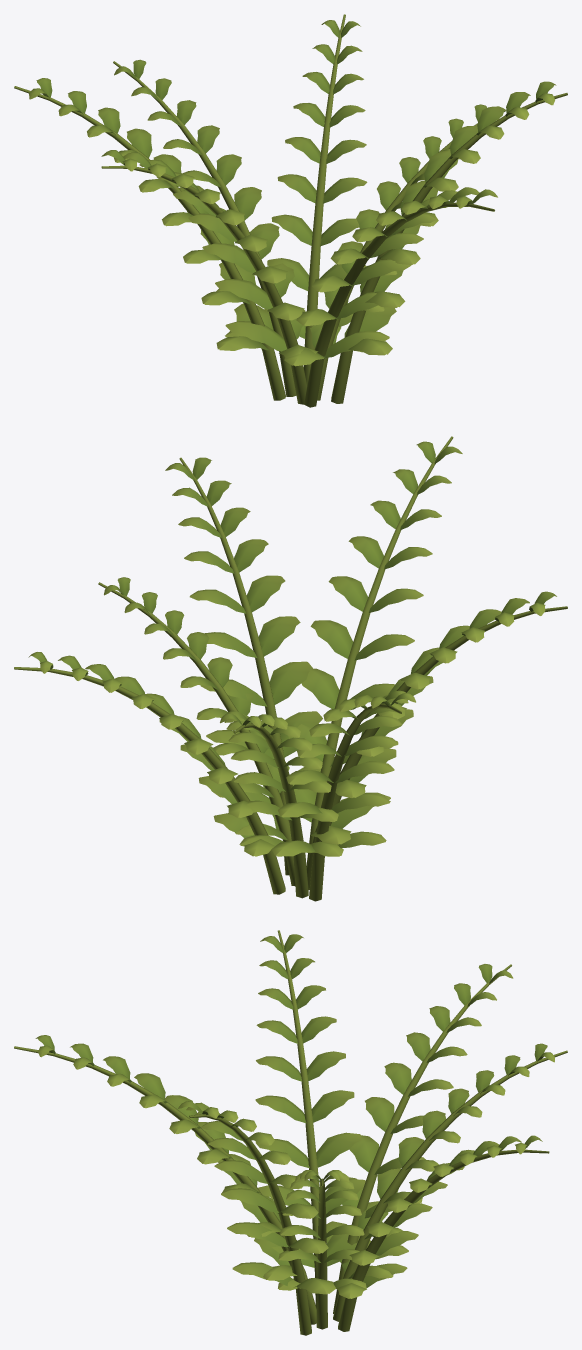
The model's file is fern_upright.glb.
3 renders of one model, top to bottom at view 1: azimuth 30°, elevation 25°; view 2: azimuth 150°, elevation 25°; view 3: azimuth 270°, elevation 25°, orthographic. The views are drawn at different scales.
Parts seen in each view (by area): view 1: Plant; view 2: Plant; view 3: Plant.
Part boxes in pixels (bbox=[...]): Plant: bbox=[14, 14, 567, 407]; Plant: bbox=[14, 436, 567, 901]; Plant: bbox=[14, 930, 567, 1335].
Size of the model in its own units: 0.5602 by 0.3997 by 0.6709.
